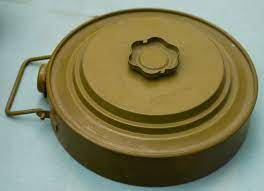car: (1, 7, 264, 191)
